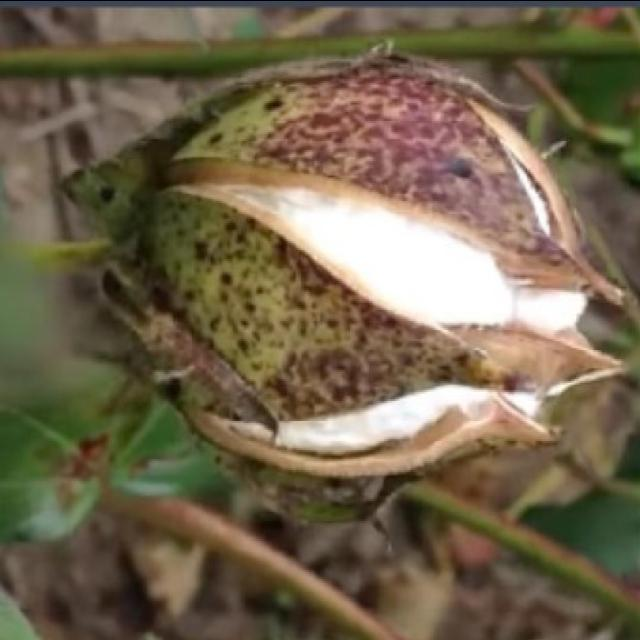Split Cotton Boll: (135, 51, 581, 484)
